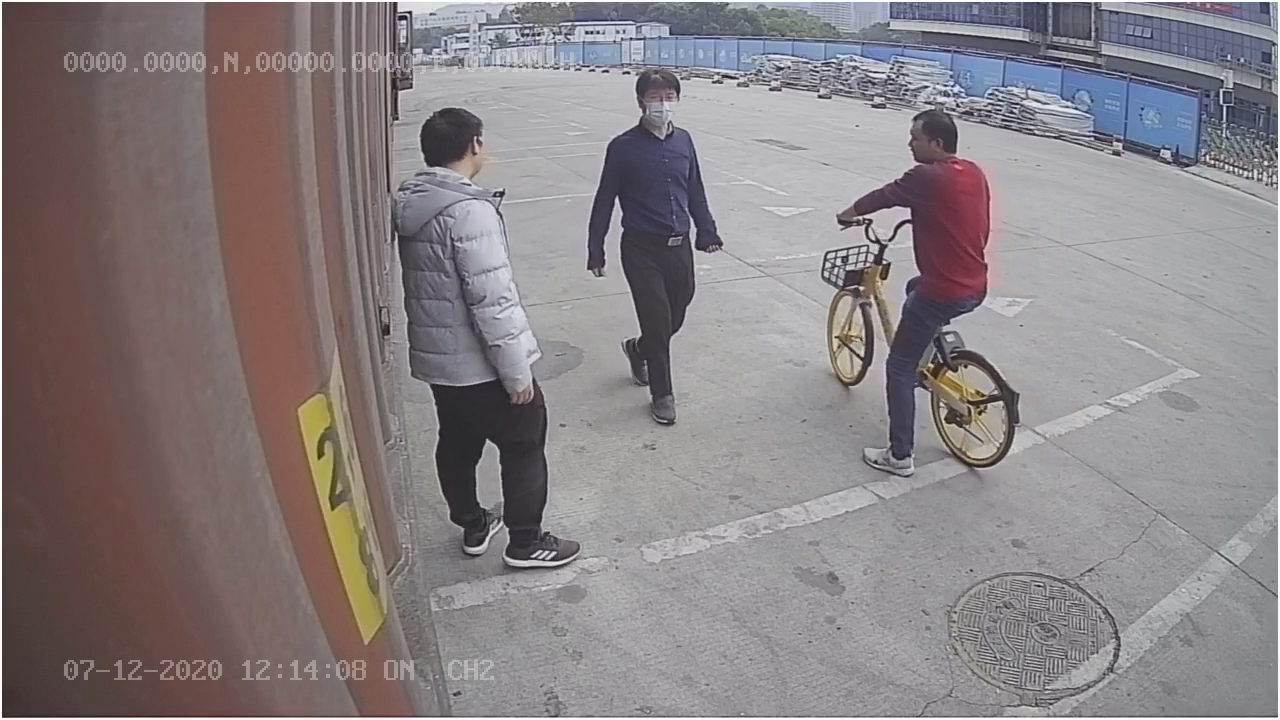person: (586, 46, 730, 434)
